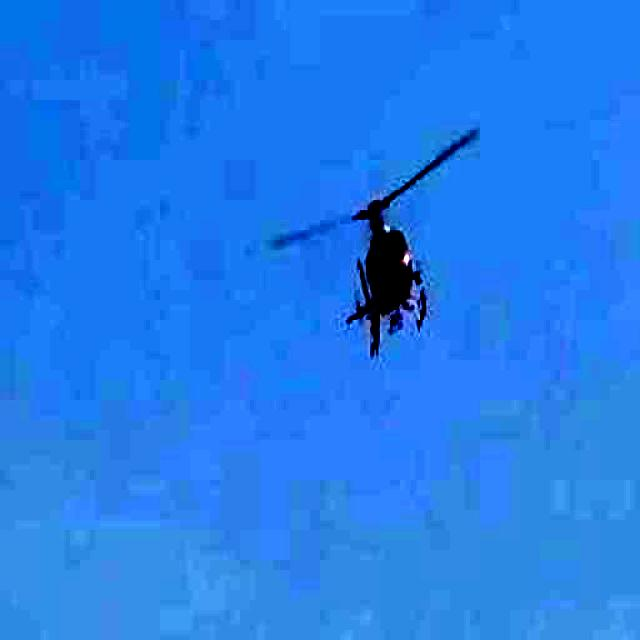drone: (238, 108, 500, 355)
